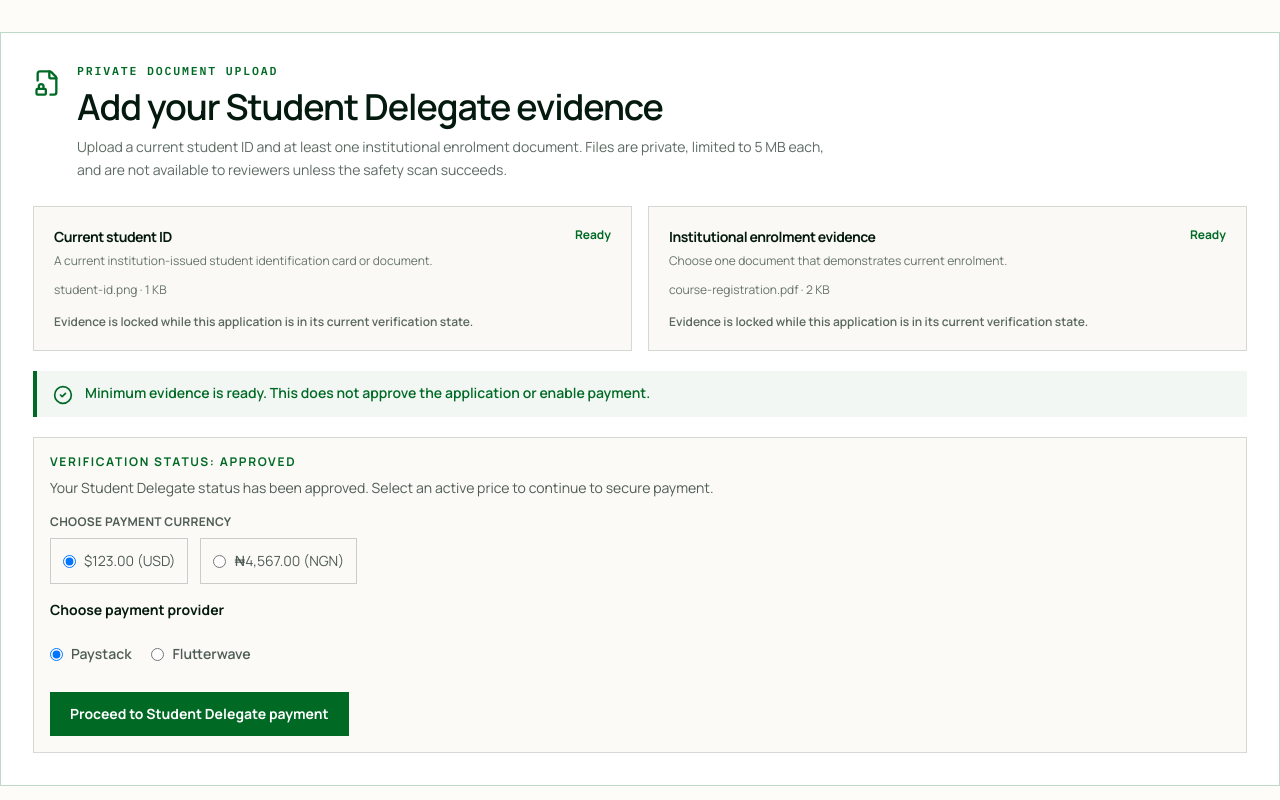
Scenario: Student verification workflow UI › initializes Paystack with selected currency, never browser amount
Click the radio button labelled "₦4,567.00 (NGN)": [220, 561] box 213,555 -> 226,568
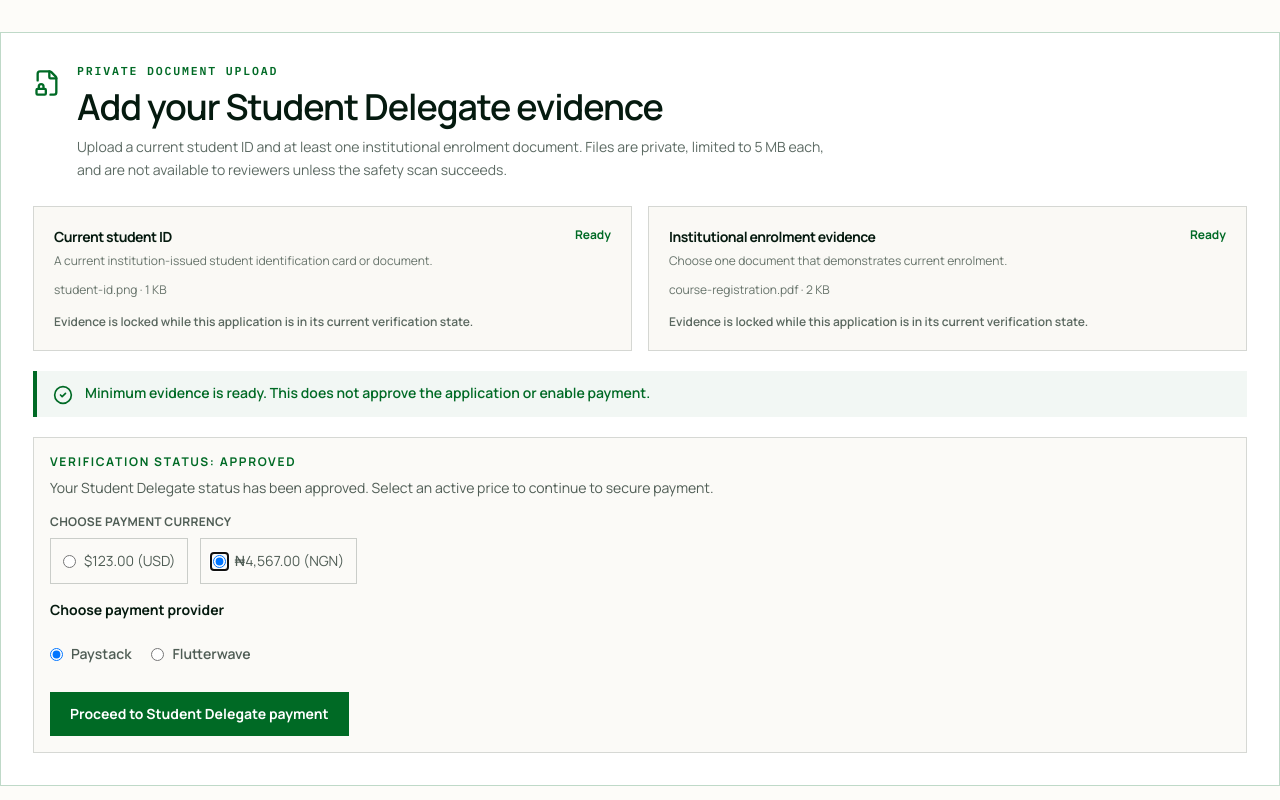
Click the radio button labelled "Paystack": [56, 654] box 50,648 -> 63,661
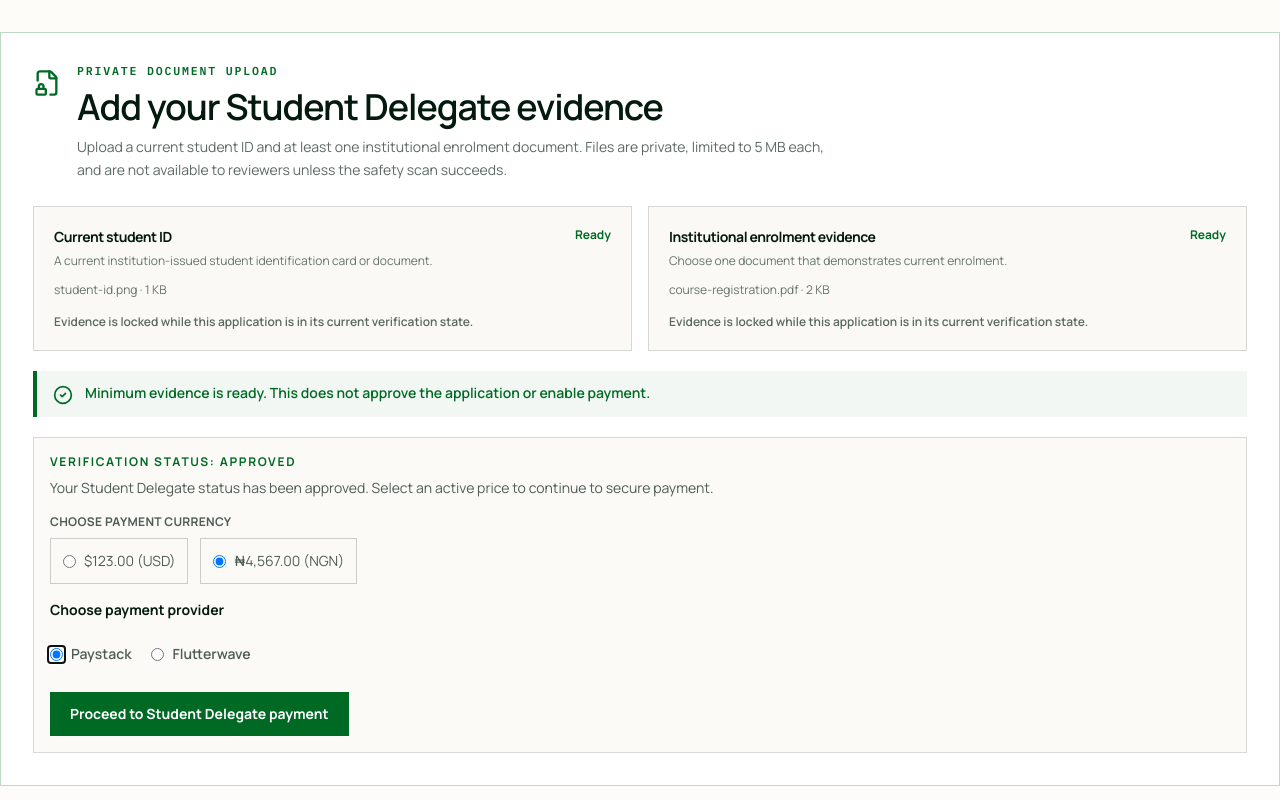
Click the button "Proceed to Student Delegate payment": [199, 714] box 50,692 -> 349,736
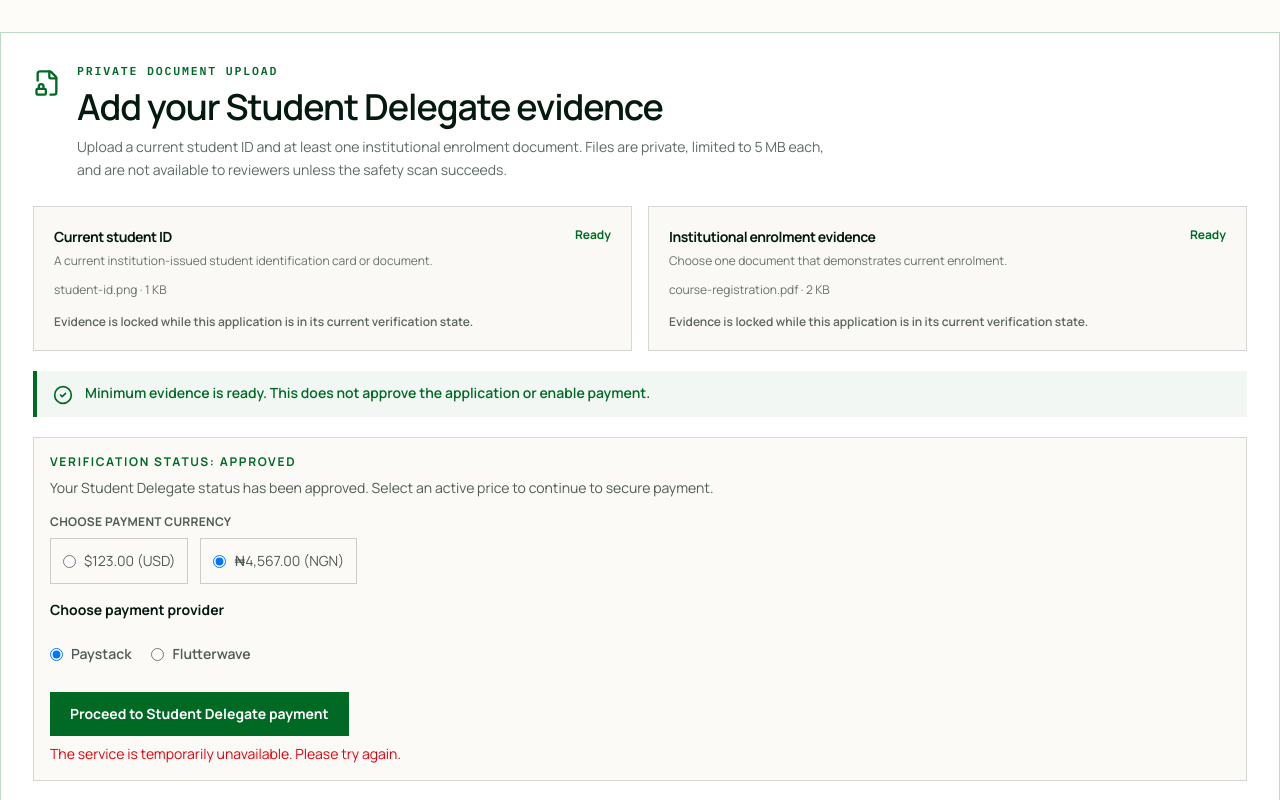
expect the message "The service is temporarily unavailable. Please try again." is shown: met, box 50,744 -> 401,763
